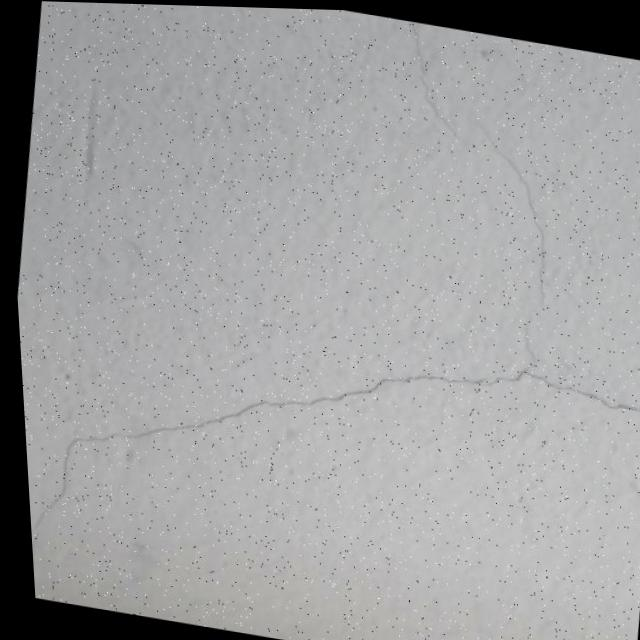Crack: (13, 283, 640, 640), (339, 17, 617, 369)
